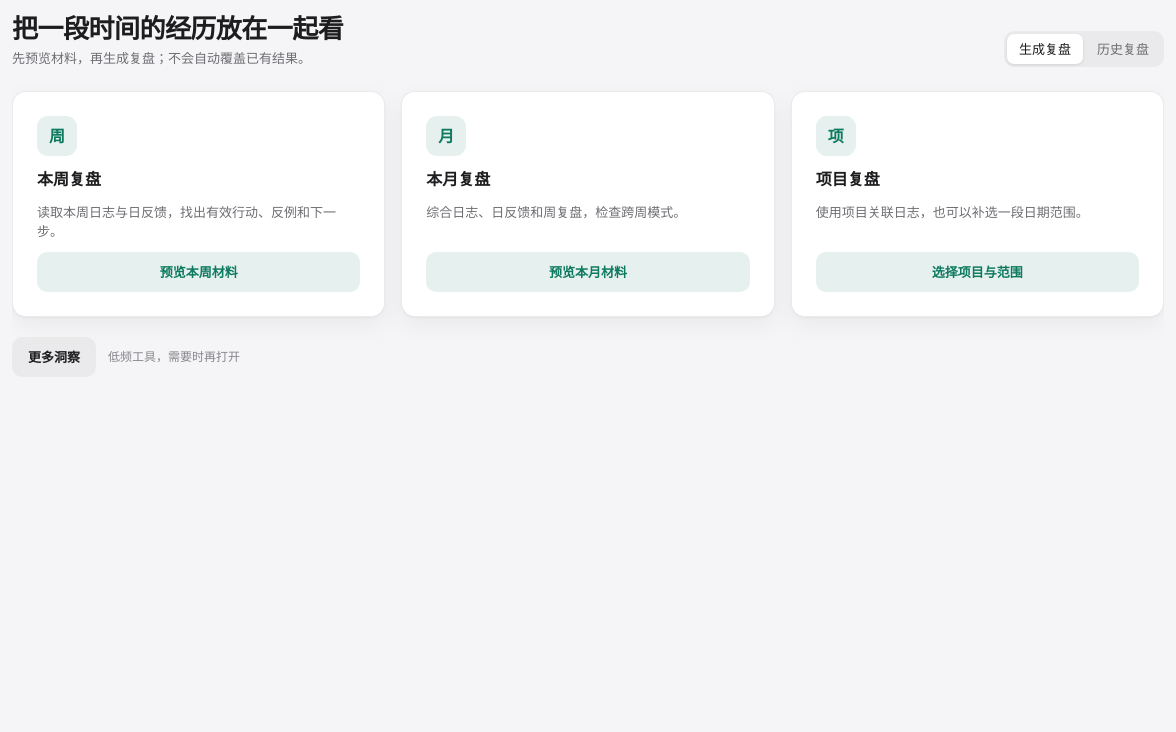
Test: ReviewsPage › keeps insight tools hidden until the user asks for them
The image size is (1176, 732).
Expected: the text "日志质量检查" is not shown
Step 1. Click the button "更多洞察" → {"x": 54, "y": 357}, box [12,337,96,377]
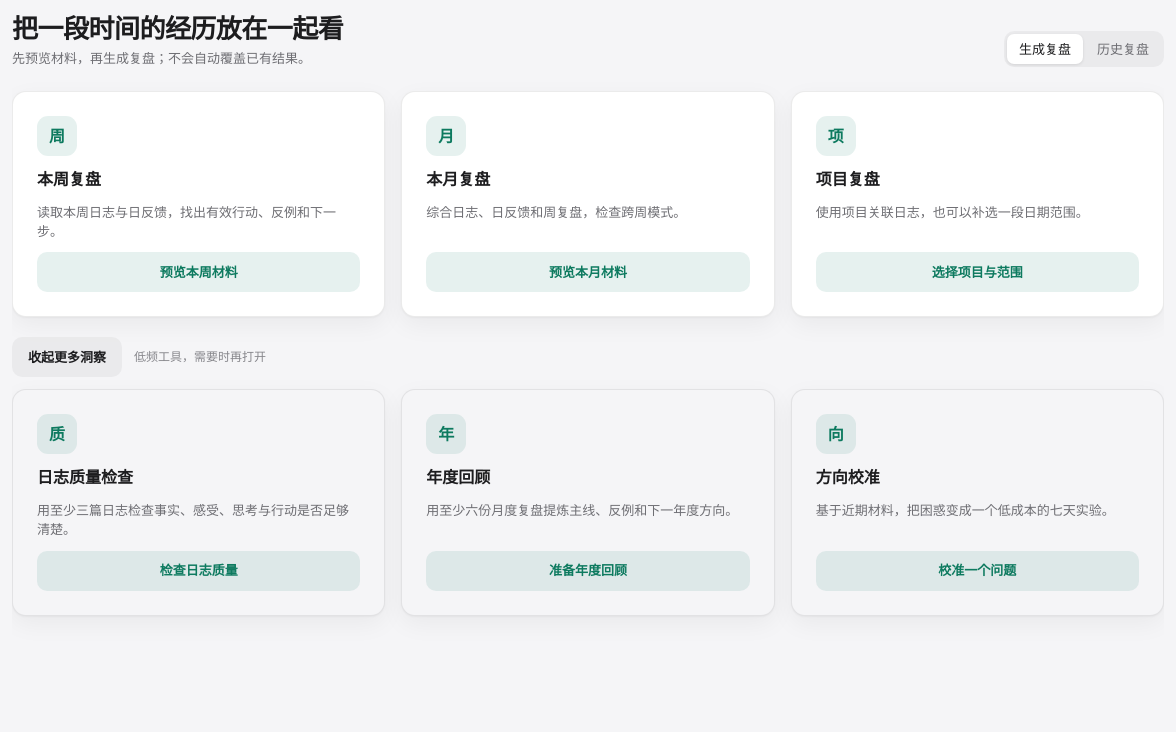
Expected: the heading "日志质量检查" is shown, [37,466,133,489]
Expected: the heading "年度回顾" is shown, [426,466,490,489]
Expected: the heading "方向校准" is shown, [816,466,880,489]
